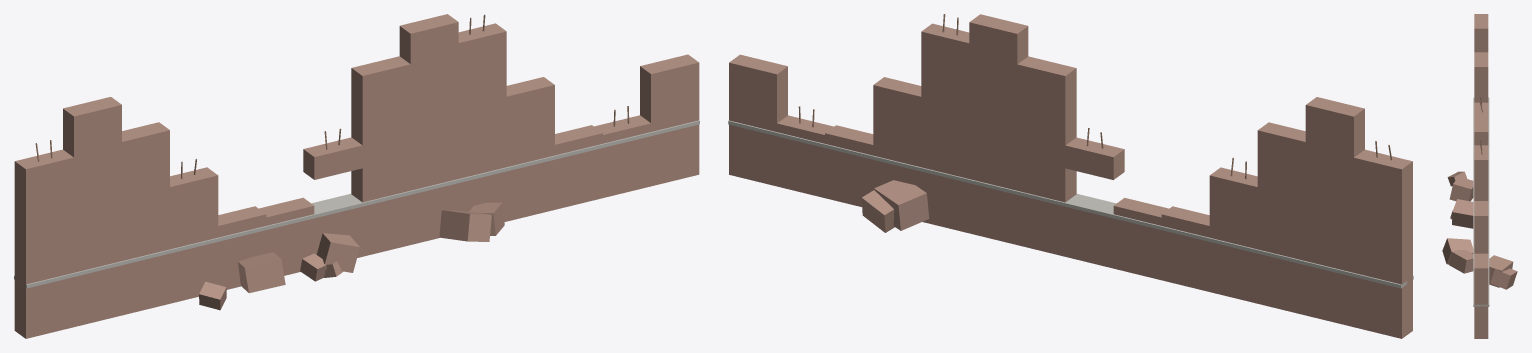
Rendered from dm_ruinwall.glb.
The picture shows the model from 3 angles, left to right: view 1: azimuth 30°, elevation 25°; view 2: azimuth 150°, elevation 25°; view 3: azimuth 270°, elevation 25°; orthographic projection. The views are drawn at different scales.
Visible parts, largest first — view 1: dm_ruinwall; view 2: dm_ruinwall; view 3: dm_ruinwall.
Part boxes in pixels (<box>): dm_ruinwall: <box>14,14,699,338</box>; dm_ruinwall: <box>728,14,1413,338</box>; dm_ruinwall: <box>1442,14,1517,338</box>.
Bounding box in the file's own units: 12.3 × 3.72 × 1.89.
